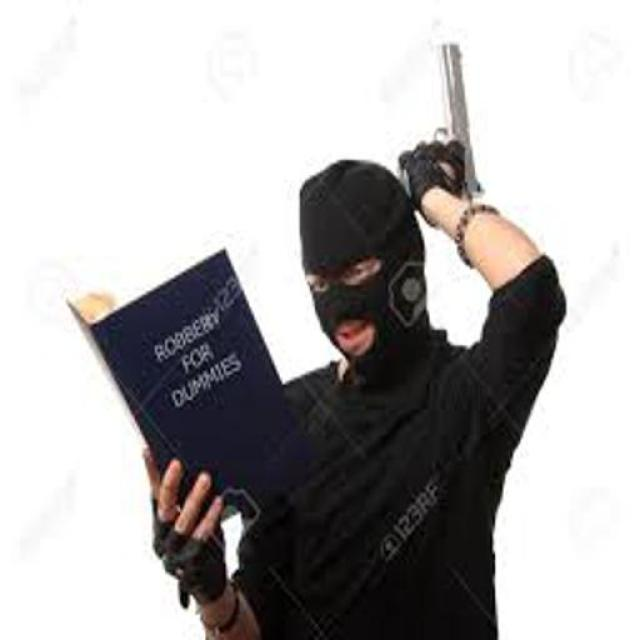pistol: (397, 38, 485, 214)
